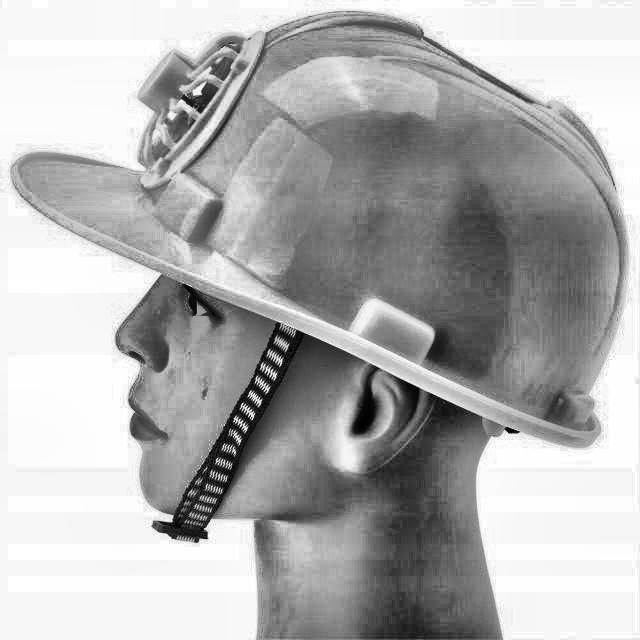Helmet: (4, 2, 640, 560)
